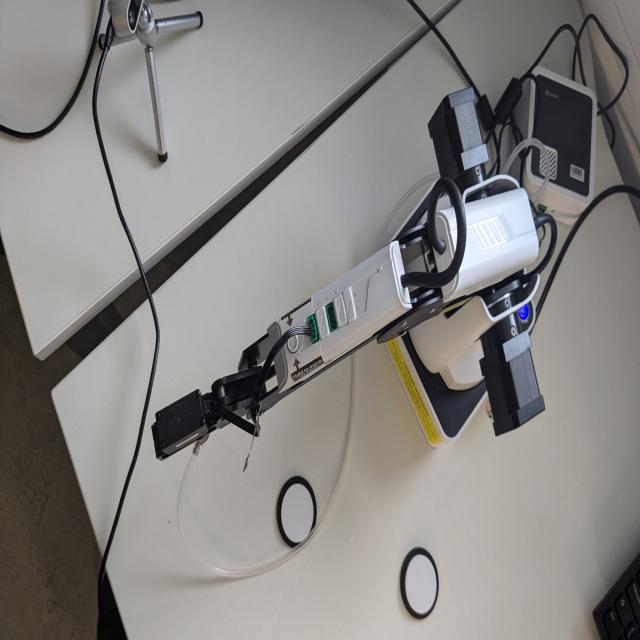Robot-end-effector-HF8z: (150, 387, 214, 466)
